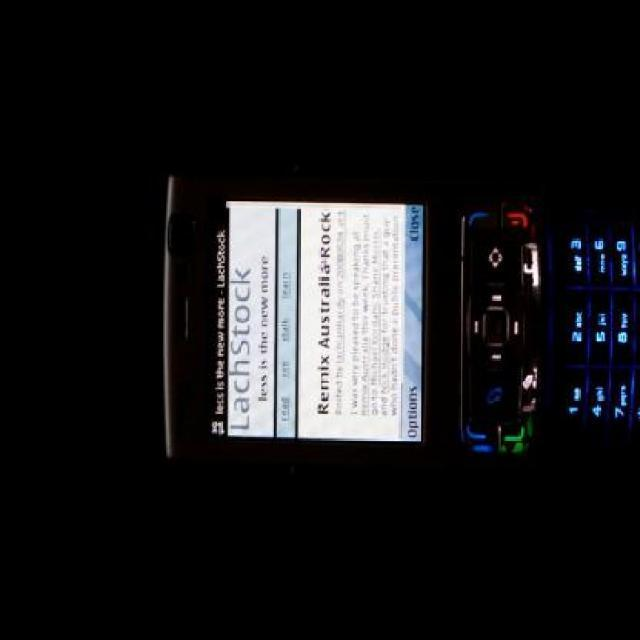phone: (175, 185, 597, 474)
